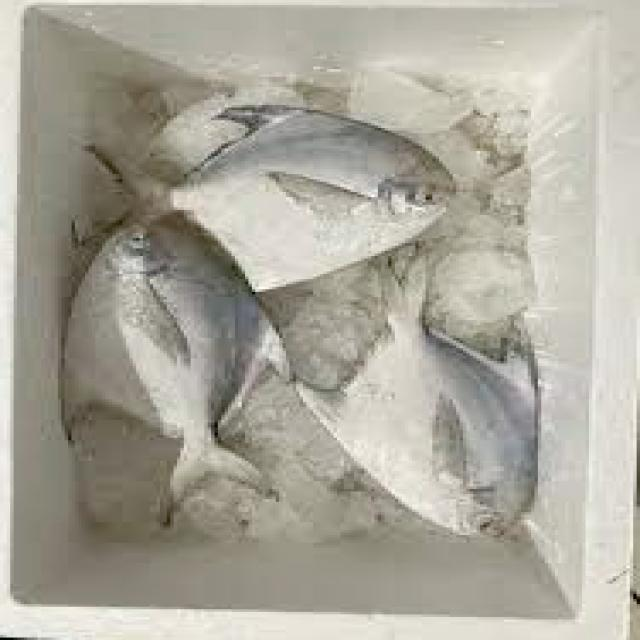pomfred: (62, 222, 298, 524), (299, 249, 539, 533), (89, 107, 454, 288)
